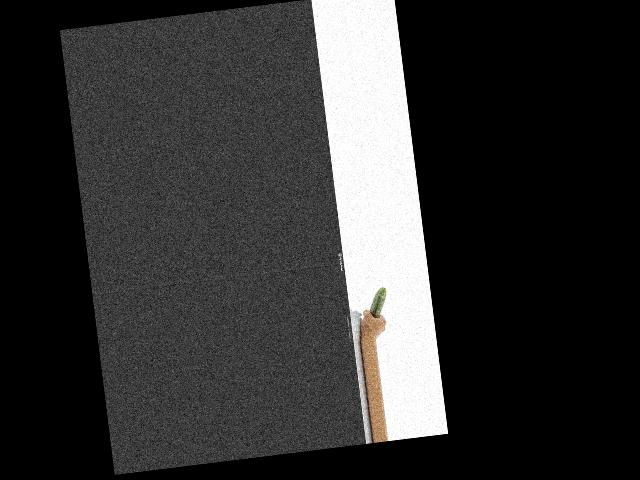cucumber: (367, 287, 389, 318)
